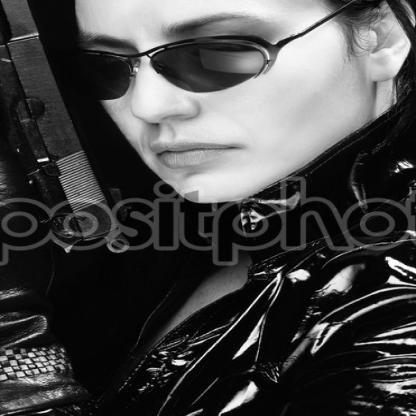gun: (0, 0, 153, 275)
